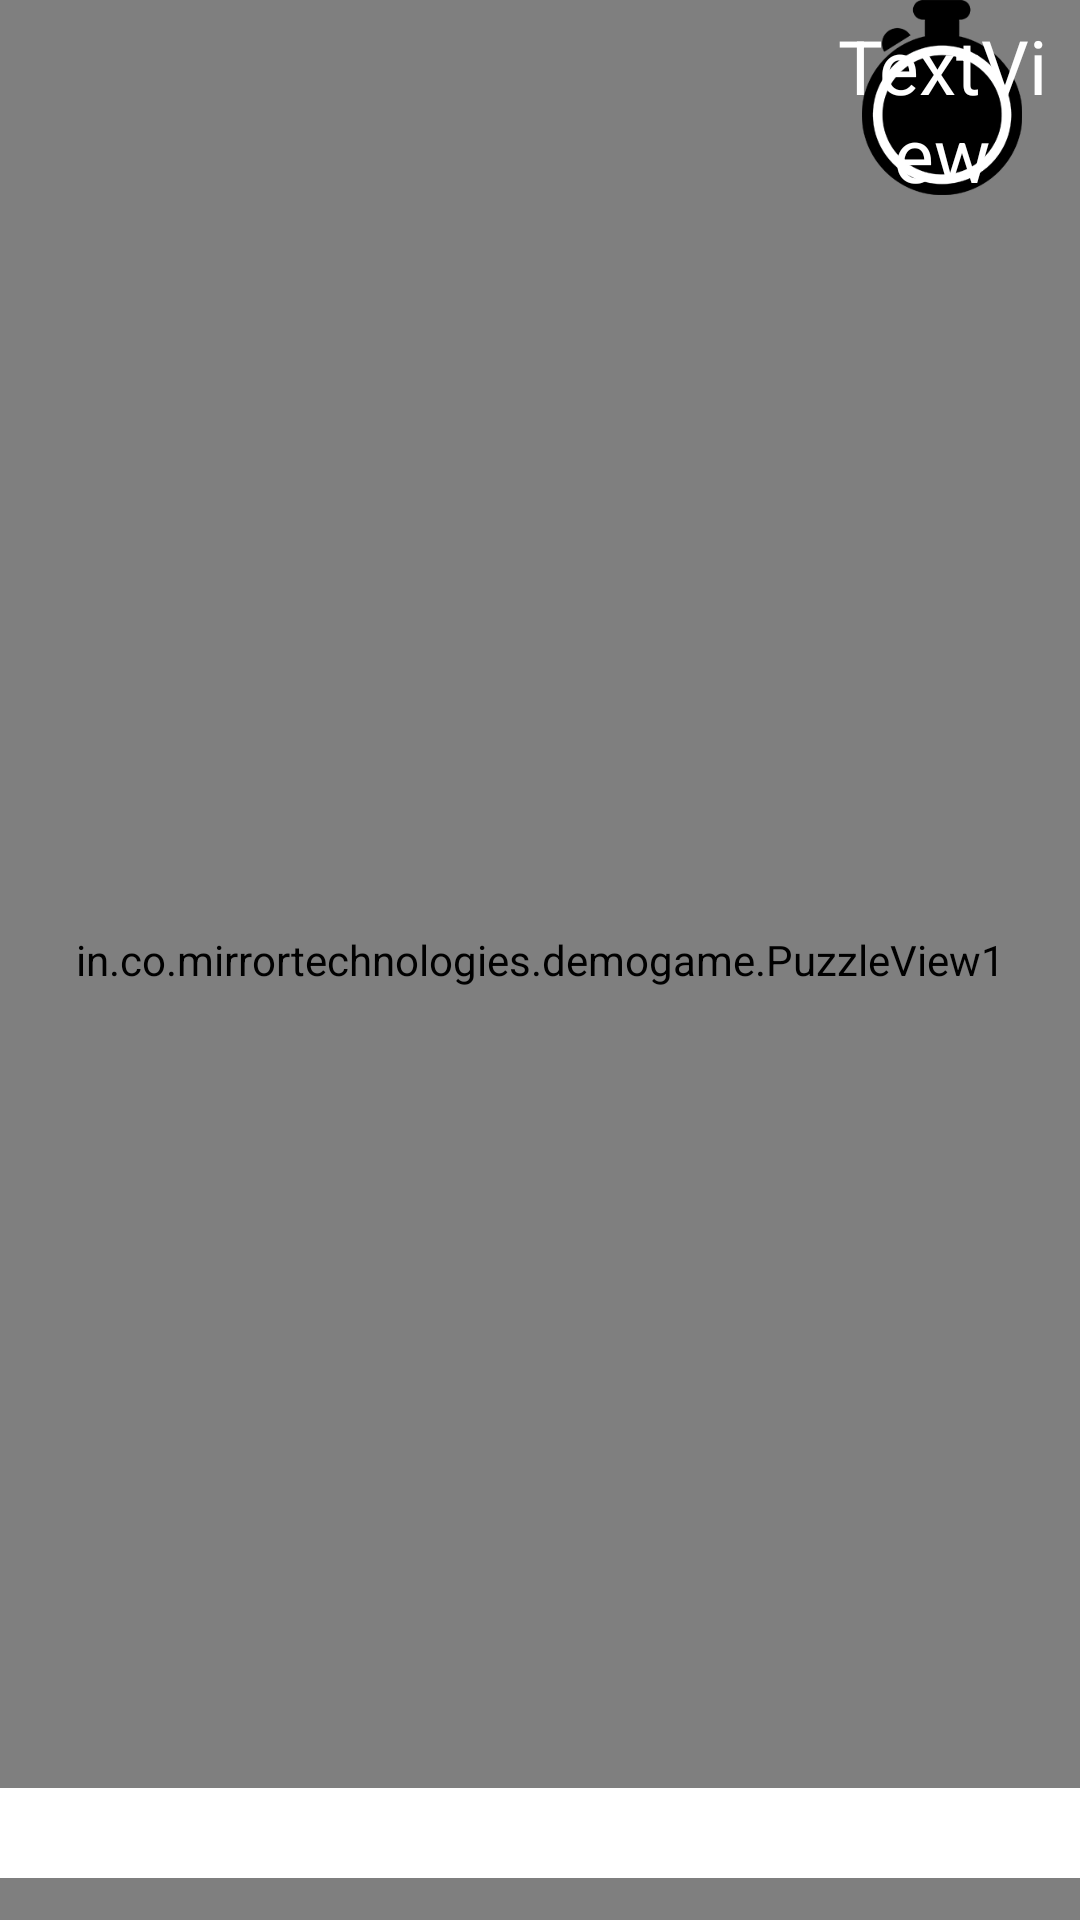

Named icons in this screenshot (1080 × 1920) and their centers, (x,y):
timer: (941,97)
